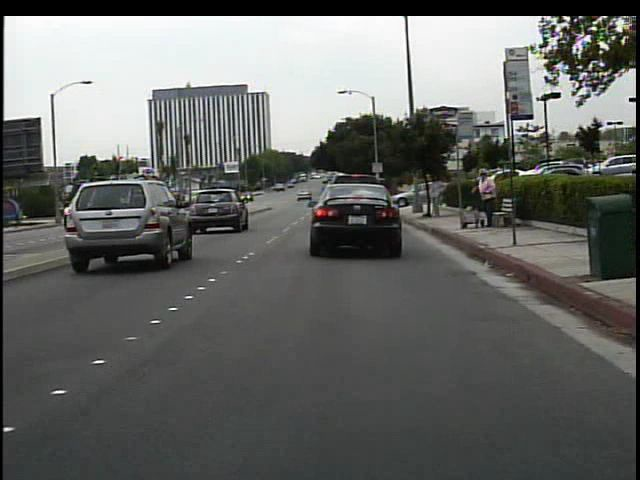person: (471, 167, 500, 229), (427, 169, 452, 219)
